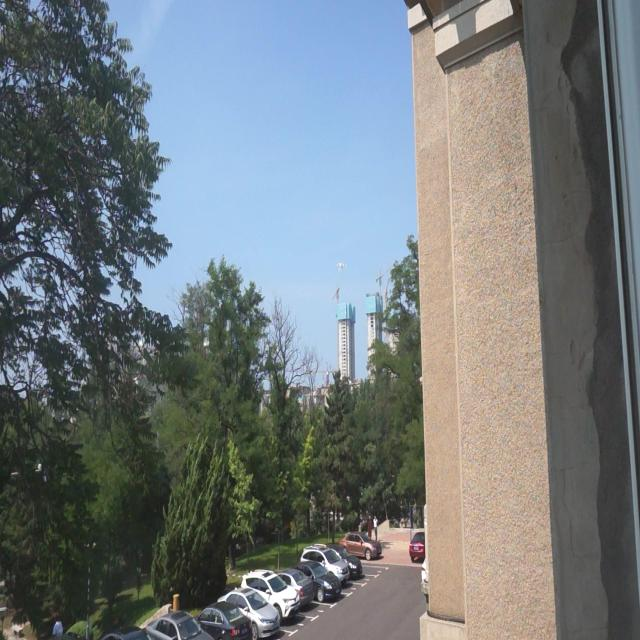drone: (336, 256, 346, 274)
